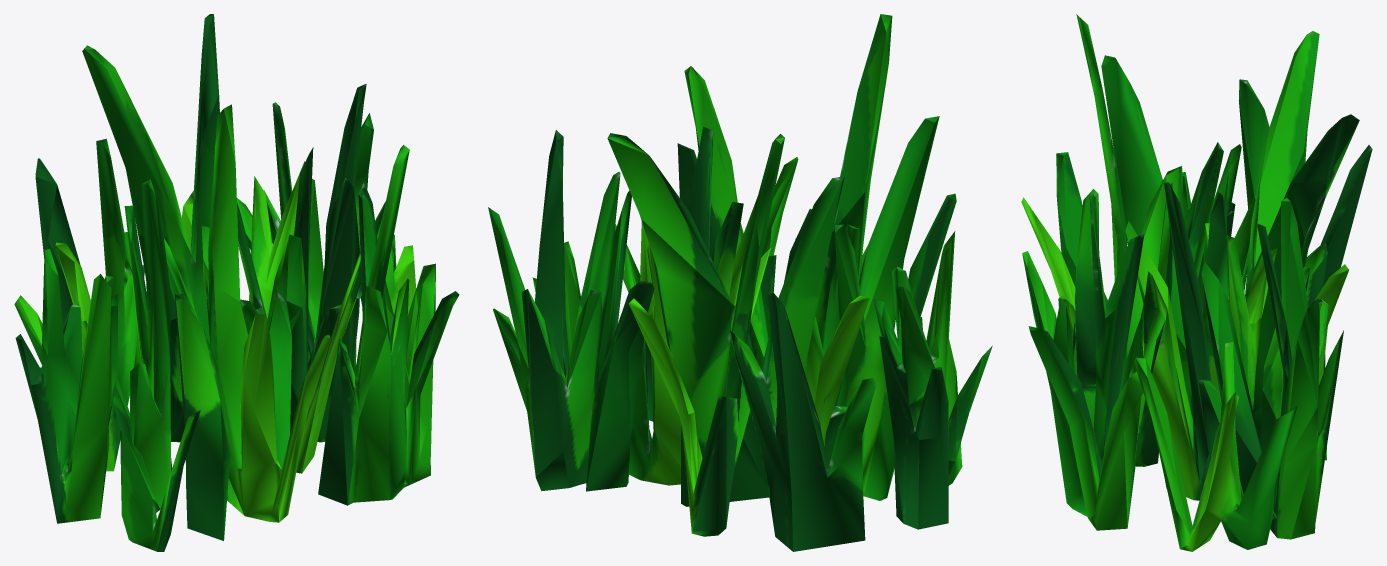
Rendered from river-reeds.glb.
3 views of the same model, side by side, from view 1: azimuth 30°, elevation 25°; view 2: azimuth 150°, elevation 25°; view 3: azimuth 270°, elevation 25° (orthographic). The views are drawn at different scales.
Parts seen in each view (by area): view 1: geometry_0; view 2: geometry_0; view 3: geometry_0.
Boxes of the visible parts, x1,y1,x2,y2 form: geometry_0: [14, 14, 459, 551]; geometry_0: [488, 14, 992, 551]; geometry_0: [1021, 14, 1372, 551].
Bounding box in the file's own units: 0.9871 × 0.9965 × 0.7585.
Materials: 1 (1 with a texture image).
